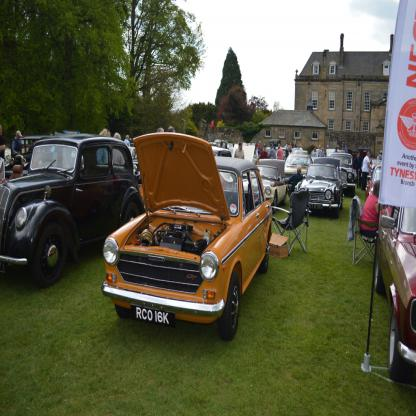Car: (0, 130, 416, 388)
